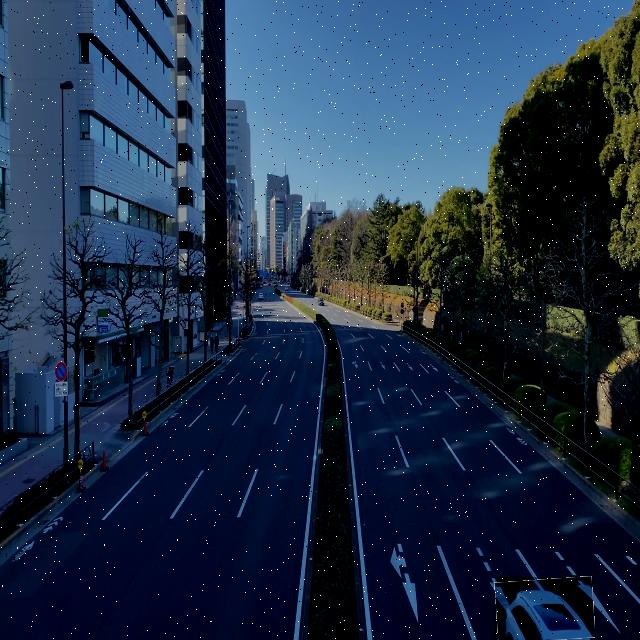Car: (495, 577, 593, 640)
